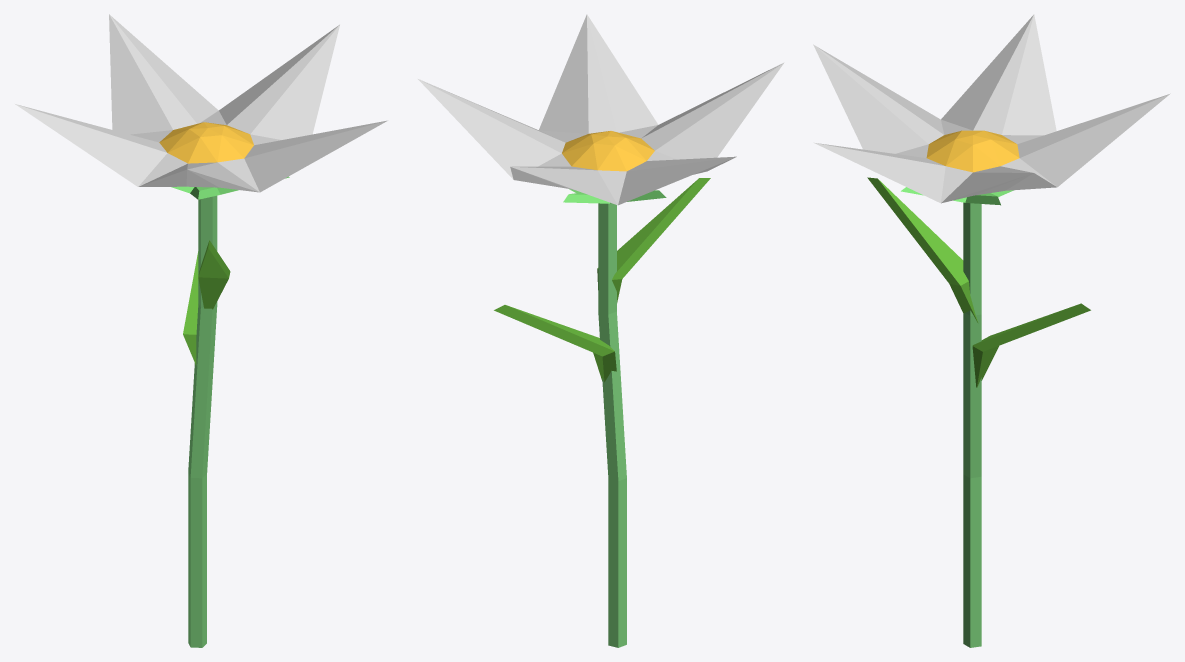
File: flower-white.fbx
3 views of the same model, side by side, from view 1: azimuth 30°, elevation 25°; view 2: azimuth 150°, elevation 25°; view 3: azimuth 270°, elevation 25° (orthographic).
Visible parts, largest first — view 1: Icosphere, Icosphere.001, Icosphere.002, Icosphere.003; view 2: Icosphere, Icosphere.001, Icosphere.002, Icosphere.003; view 3: Icosphere, Icosphere.001, Icosphere.002, Icosphere.003.
Boxes of the visible parts, x1=… form: Icosphere: x1=15, y1=14, x2=387, y2=192; Icosphere.001: x1=171, y1=176, x2=289, y2=647; Icosphere.002: x1=198, y1=240, x2=230, y2=309; Icosphere.003: x1=183, y1=251, x2=198, y2=365; Icosphere: x1=418, y1=14, x2=784, y2=205; Icosphere.001: x1=563, y1=189, x2=666, y2=647; Icosphere.002: x1=597, y1=178, x2=710, y2=302; Icosphere.003: x1=494, y1=305, x2=616, y2=382; Icosphere: x1=813, y1=14, x2=1170, y2=203; Icosphere.001: x1=901, y1=187, x2=1013, y2=647; Icosphere.002: x1=867, y1=177, x2=978, y2=322; Icosphere.003: x1=972, y1=303, x2=1090, y2=387.
Size of the model in its own units: 355 by 578 by 337.
